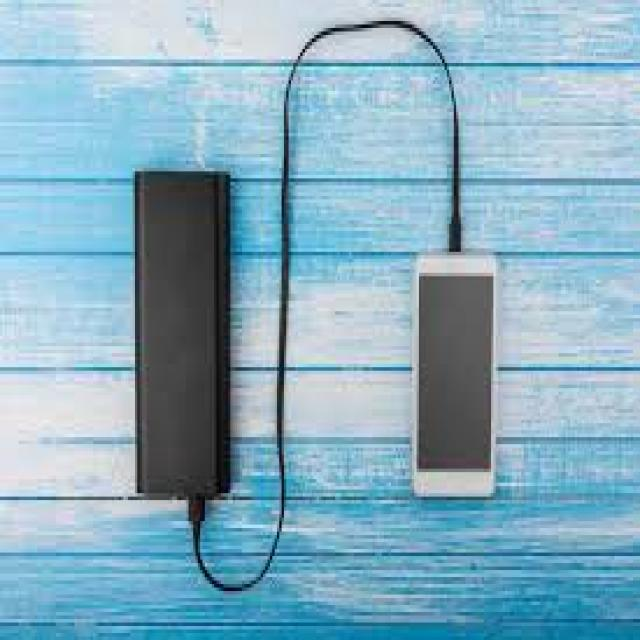power_bank: (133, 167, 233, 502)
